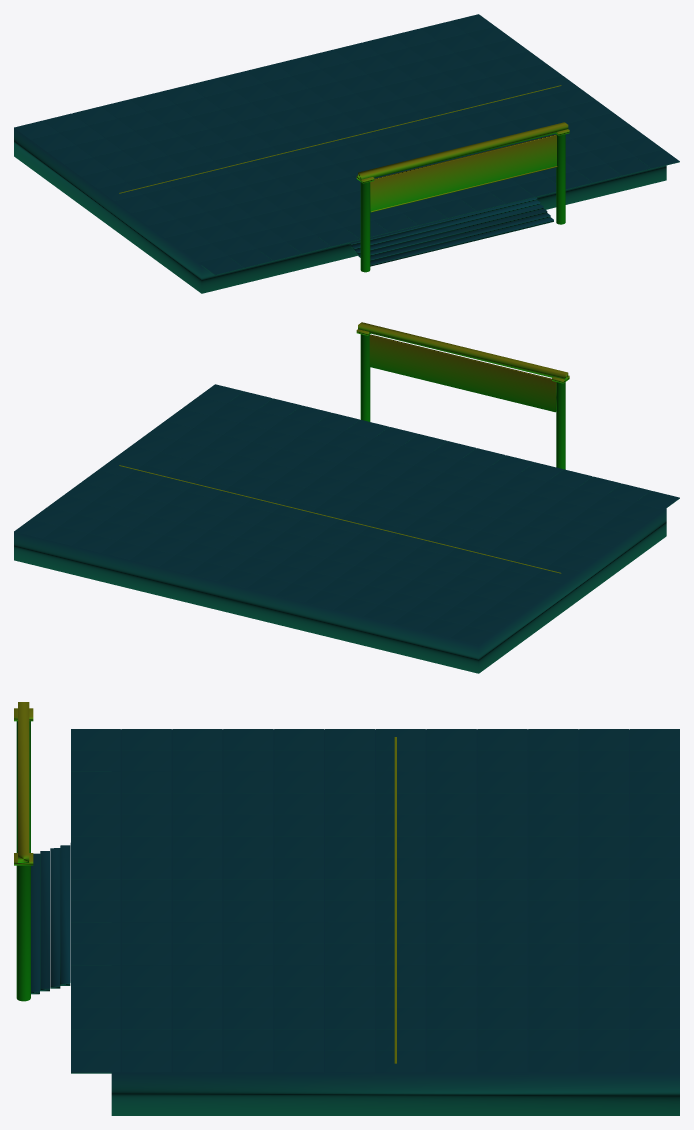
File: lacquer_court_ground.glb
3 views of the same model, one above another, from view 1: azimuth 30°, elevation 25°; view 2: azimuth 150°, elevation 25°; view 3: azimuth 270°, elevation 25° (orthographic). The views are drawn at different scales.
Parts seen in each view (by area): view 1: lacquer_court_ground; view 2: lacquer_court_ground; view 3: lacquer_court_ground.
Boxes of the visible parts, left/top/right/bottom form: lacquer_court_ground: left=14, top=14, right=679, bottom=293; lacquer_court_ground: left=14, top=322, right=679, bottom=673; lacquer_court_ground: left=14, top=702, right=679, bottom=1115.
Size of what is drawn, in the model's own units: 39.96 by 9.01 by 32.76.
